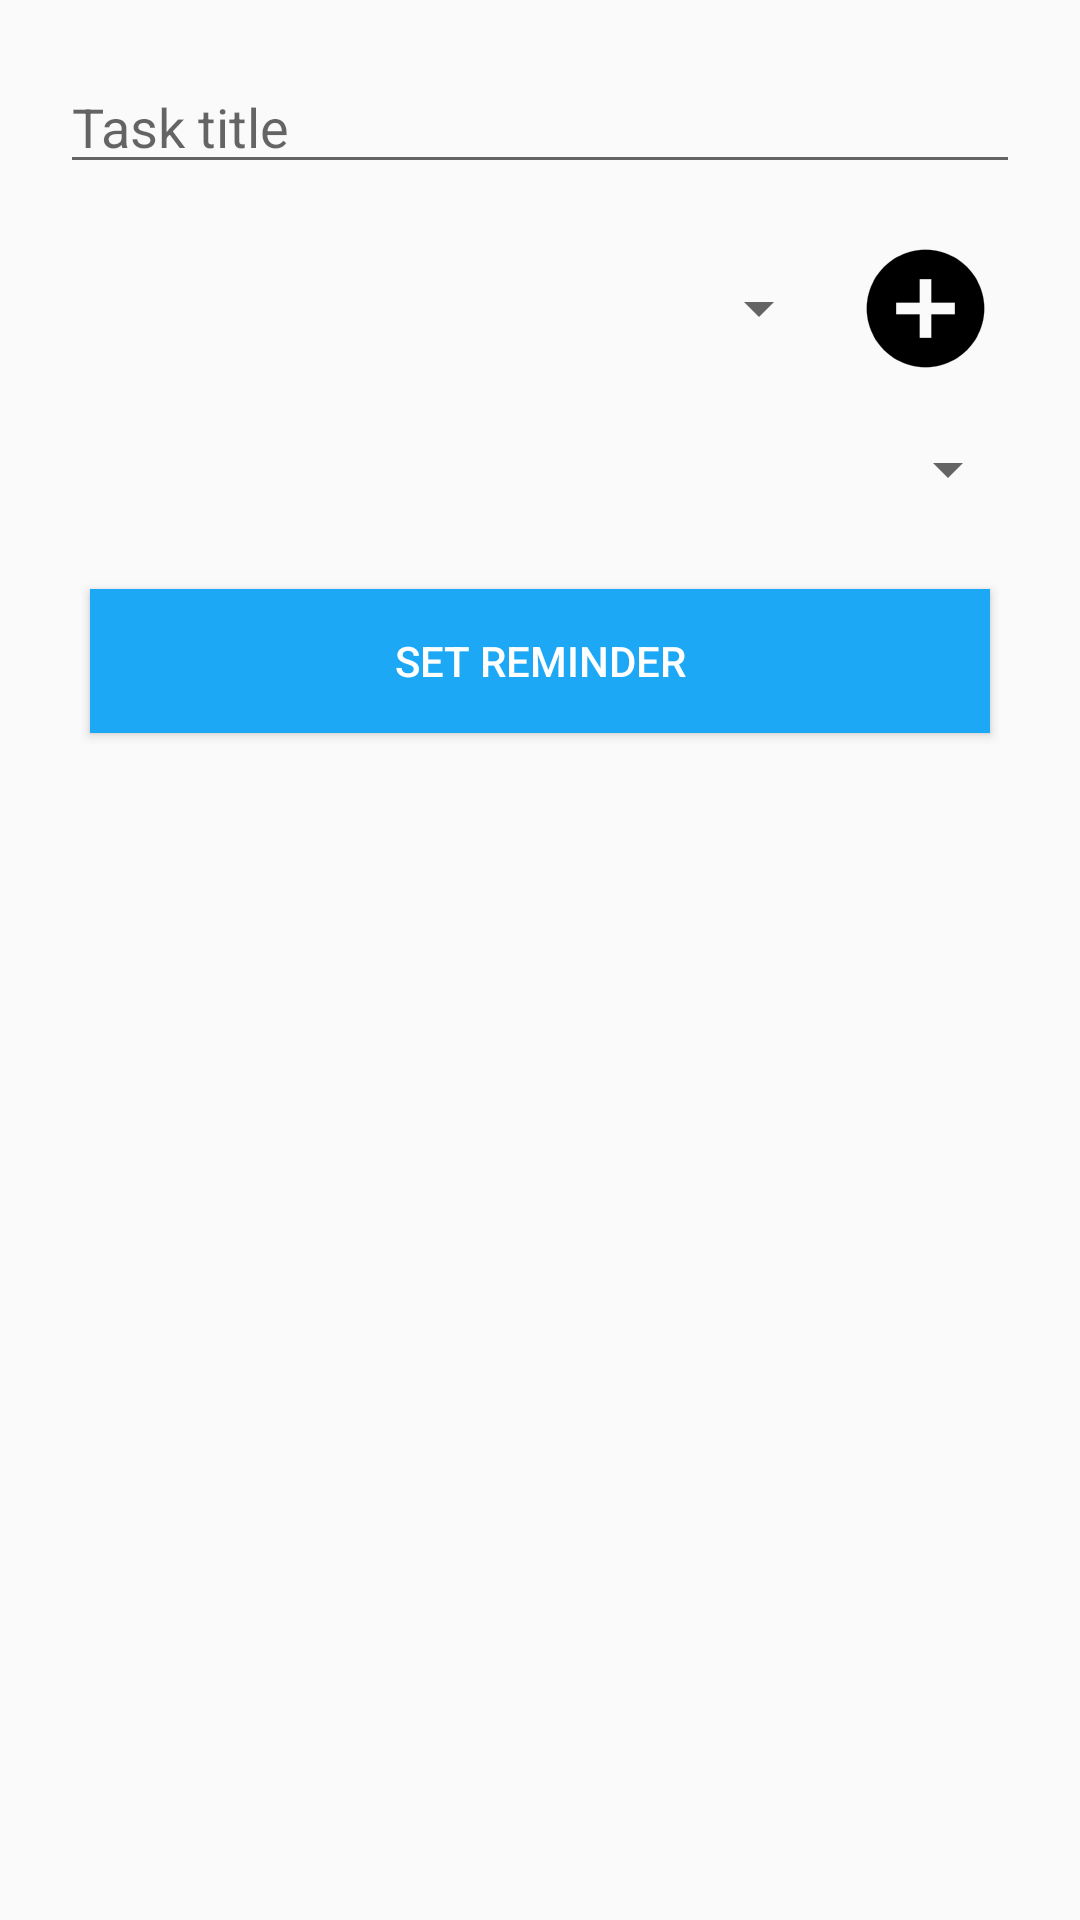

Screen size 1080x1920. Icon name, then its box in pixels as [x1, y1, x2, y2]:
add circle: [866, 249, 985, 368]
